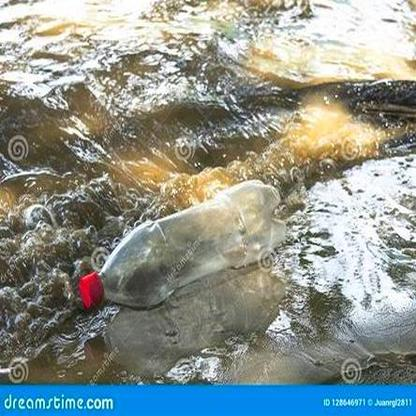plastic bottle: (80, 180, 284, 308)
